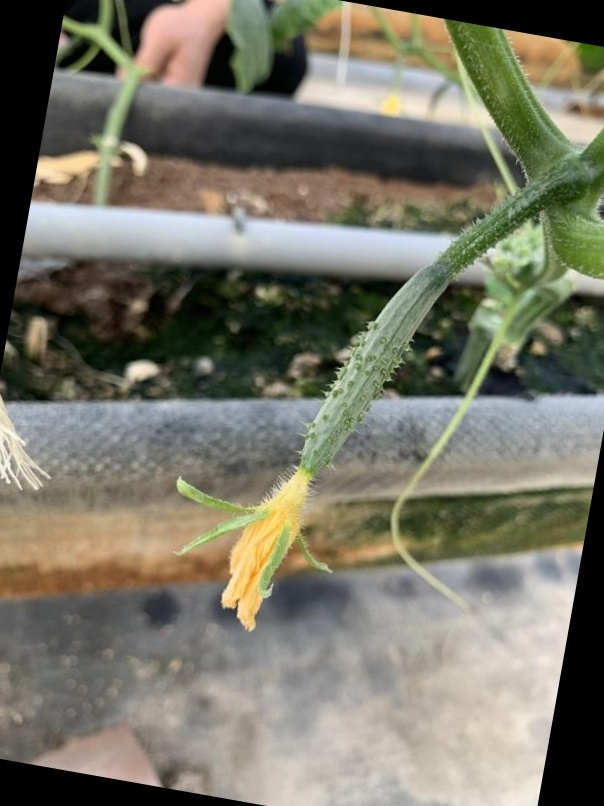bear: (172, 216, 473, 637)
